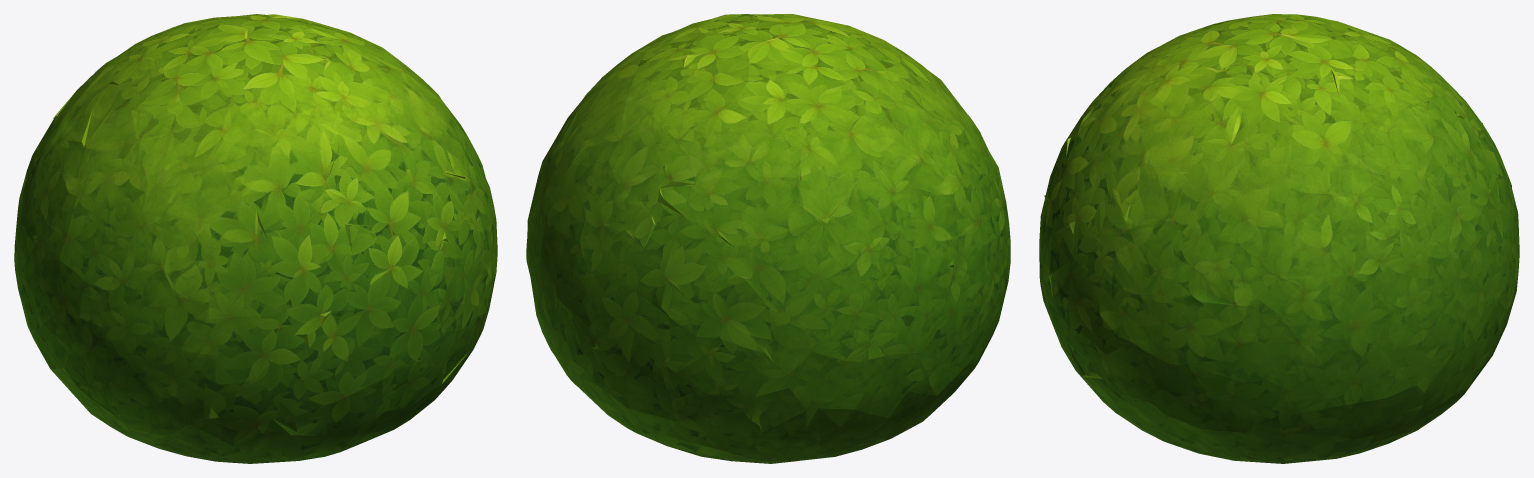
File: topiary_ball.glb
3 views of the same model, side by side, from view 1: azimuth 30°, elevation 25°; view 2: azimuth 150°, elevation 25°; view 3: azimuth 270°, elevation 25° (orthographic).
Parts seen in each view (by area): view 1: geometry_0; view 2: geometry_0; view 3: geometry_0.
Boxes of the visible parts, box(x1,y1,x2,y2) form: geometry_0: box(14, 14, 497, 463); geometry_0: box(526, 14, 1010, 463); geometry_0: box(1039, 14, 1519, 463).
Size of the model in its own units: 1.16 by 1 by 1.16.
Materials: 1 (1 with a texture image).
